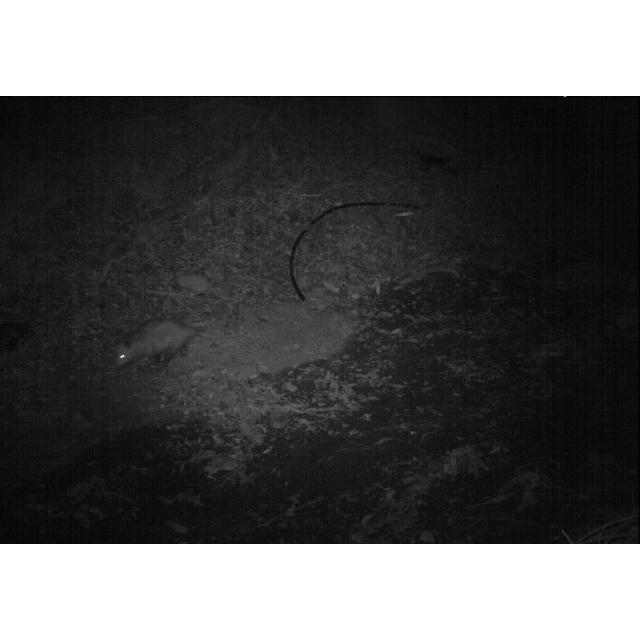animals: (114, 319, 246, 369)
